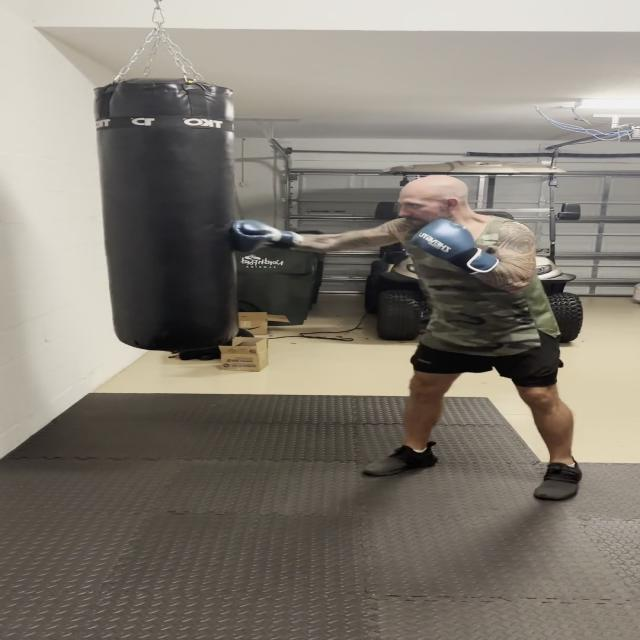bag: (92, 84, 236, 356)
jab: (225, 169, 554, 347)
